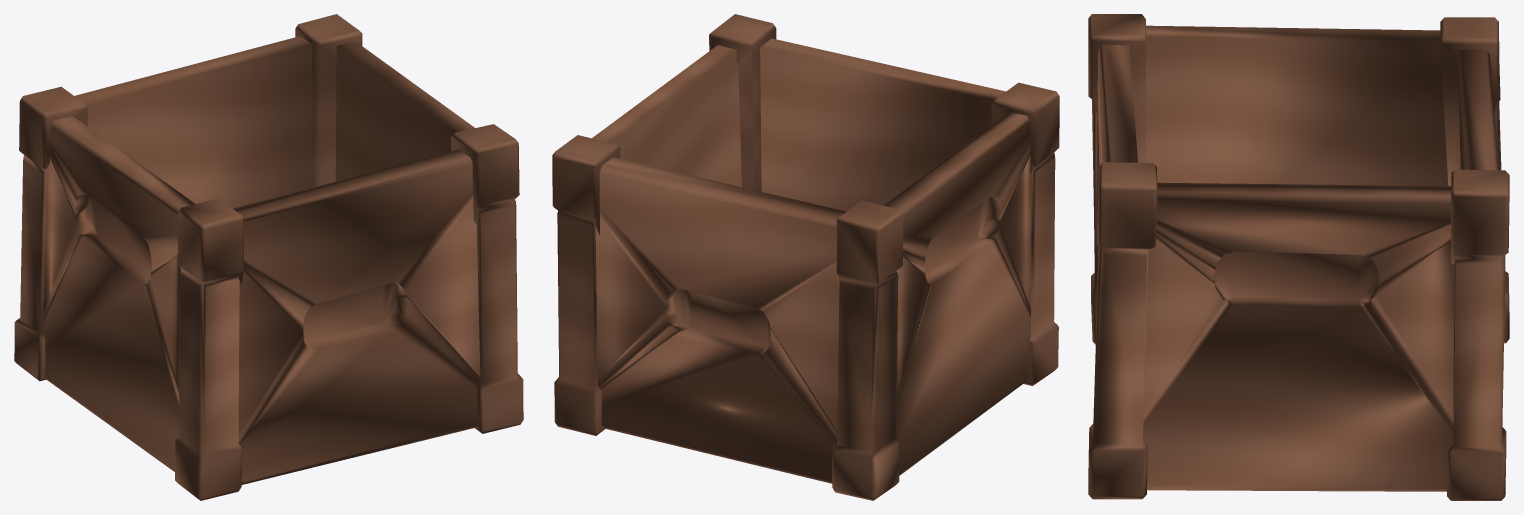
File: H03_atlas_v1.glb
The picture shows the model from 3 angles, left to right: view 1: azimuth 30°, elevation 25°; view 2: azimuth 150°, elevation 25°; view 3: azimuth 270°, elevation 25°; orthographic projection. The views are drawn at different scales.
Visible parts, largest first — view 1: H03_Geometry; view 2: H03_Geometry; view 3: H03_Geometry.
Boxes of the visible parts, x1,y1,x2,y2 form: H03_Geometry: (14, 14, 523, 500); H03_Geometry: (552, 14, 1059, 500); H03_Geometry: (1088, 14, 1509, 500).
Size of the model in its own units: 3 by 2.5 by 3.
Materials: 1 (1 with a texture image).
